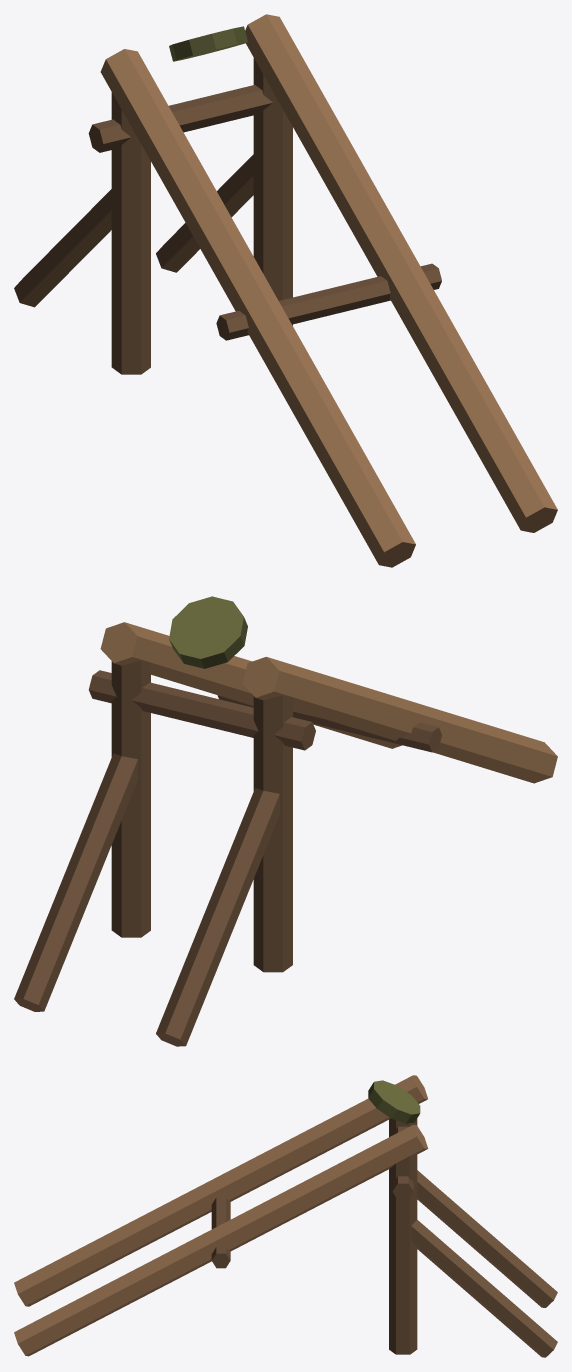
The model's file is beach_obstacle.glb.
The picture shows the model from 3 angles, top to bottom: view 1: azimuth 30°, elevation 25°; view 2: azimuth 150°, elevation 25°; view 3: azimuth 270°, elevation 25°; orthographic projection. The views are drawn at different scales.
Parts seen in each view (by area): view 1: LOD0; view 2: LOD0; view 3: LOD0.
Boxes of the visible parts, x1,y1,x2,y2 form: LOD0: [14, 14, 557, 567]; LOD0: [14, 596, 557, 1046]; LOD0: [14, 1075, 557, 1357].
Size of the model in its own units: 1.5 by 2.32 by 4.63.
Materials: 1 (1 with a texture image).
